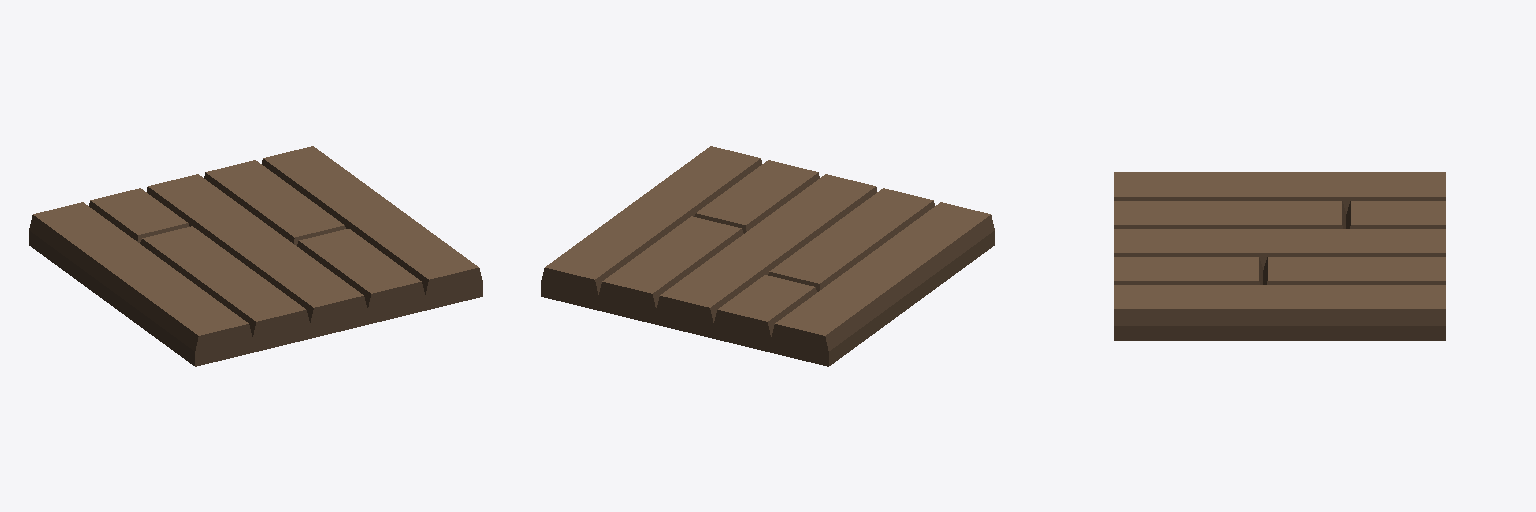
Rendered from Wood_Floor_Straight_3.obj.
The picture shows the model from 3 angles: view 1: azimuth 30°, elevation 25°; view 2: azimuth 150°, elevation 25°; view 3: azimuth 270°, elevation 25°; orthographic projection.
Parts seen in each view (by area): view 1: object1; view 2: object1; view 3: object1.
Boxes of the visible parts, x1,y1,x2,y2 form: object1: [29, 146, 482, 366]; object1: [541, 146, 994, 366]; object1: [1114, 172, 1445, 340].
Bounding box in the file's own units: 1 × 0.1 × 1.